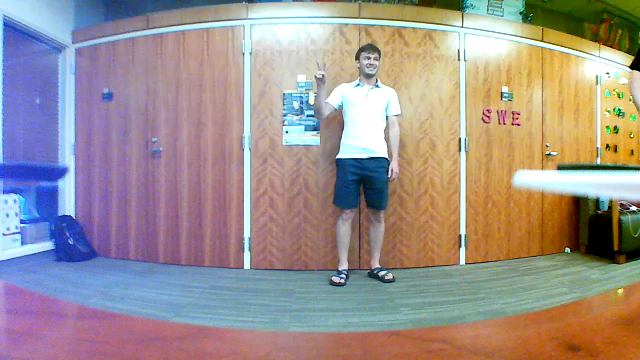peace: (312, 57, 330, 90)
